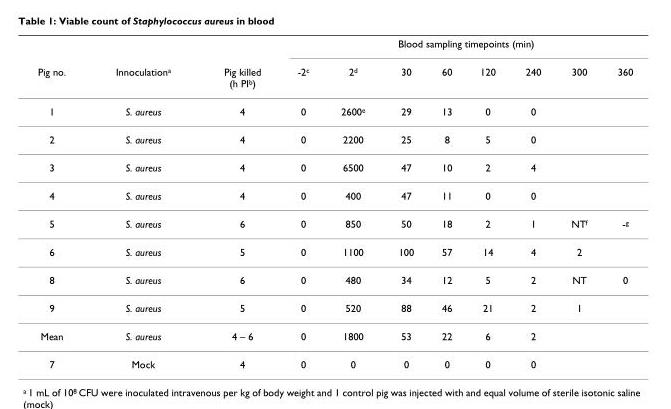table: (37, 37, 632, 369)
table column: (90, 37, 196, 369), (196, 37, 278, 369), (324, 37, 381, 369), (37, 37, 90, 369), (278, 37, 324, 369), (381, 37, 427, 369), (509, 37, 555, 369), (555, 37, 601, 369), (465, 37, 509, 369), (427, 37, 465, 369), (601, 37, 632, 369)
table column header: (37, 37, 632, 96)
table row: (37, 57, 632, 96), (37, 96, 632, 125), (37, 125, 632, 153), (37, 153, 632, 181), (37, 181, 632, 209), (37, 209, 632, 237), (37, 237, 632, 265), (37, 265, 632, 293), (37, 293, 632, 321), (37, 321, 632, 349), (37, 37, 632, 57), (37, 349, 632, 369)
table spanning cell: (278, 37, 632, 57), (90, 37, 196, 96), (196, 37, 278, 96), (37, 37, 90, 96)
